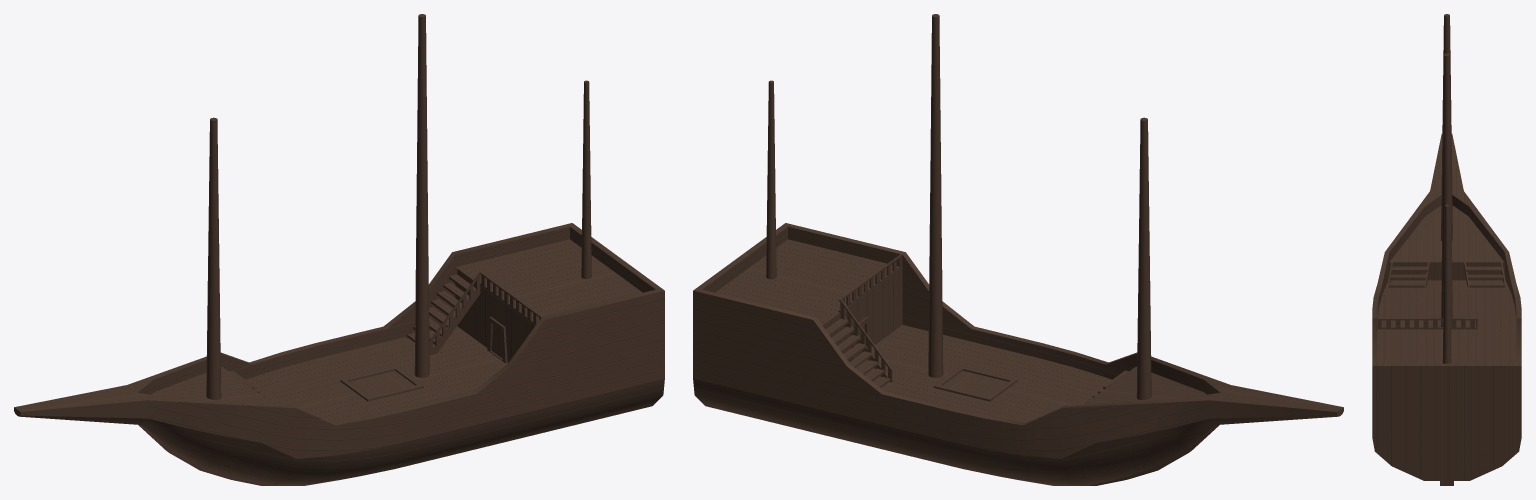
The model's file is Lowpoly_Ship.fbx.
3 renders of one model, left to right at view 1: azimuth 30°, elevation 25°; view 2: azimuth 150°, elevation 25°; view 3: azimuth 270°, elevation 25°, orthographic. The views are drawn at different scales.
Visible parts, largest first — view 1: Ship; view 2: Ship; view 3: Ship.
Part boxes in pixels (x1,y1,x2,y2): Ship: (14,14,664,485); Ship: (693,14,1343,485); Ship: (1372,14,1521,485).
Bounding box in the file's own units: 7496 × 5214 × 1999.
